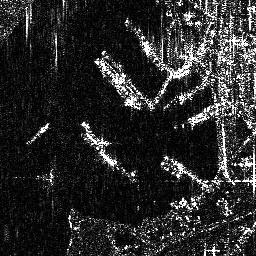ship: (92, 56, 140, 109), (79, 131, 119, 170), (26, 120, 49, 146), (160, 161, 181, 178)
